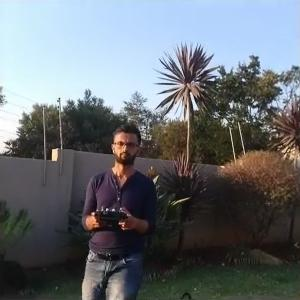follow: (75, 117, 157, 299)
null: (75, 118, 156, 298)
